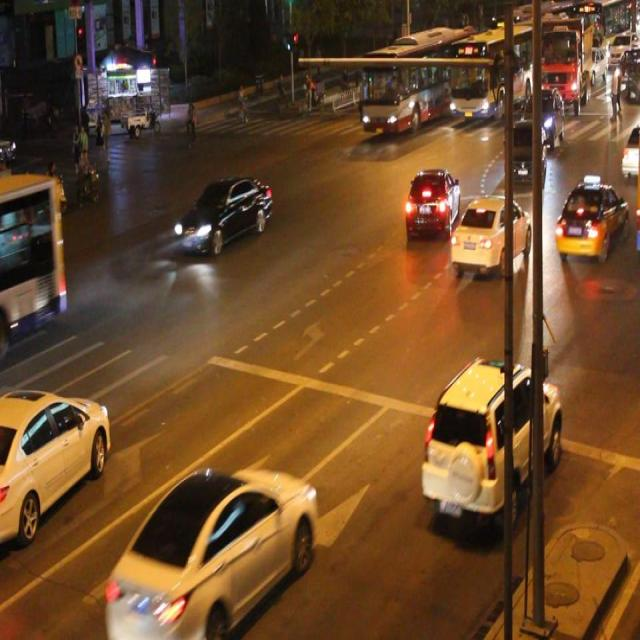car: (105, 463, 315, 640), (421, 359, 558, 516), (1, 388, 109, 540), (175, 175, 272, 255), (449, 195, 529, 270), (553, 180, 627, 258), (403, 167, 460, 240), (502, 120, 544, 187)
van: (0, 174, 64, 344)
